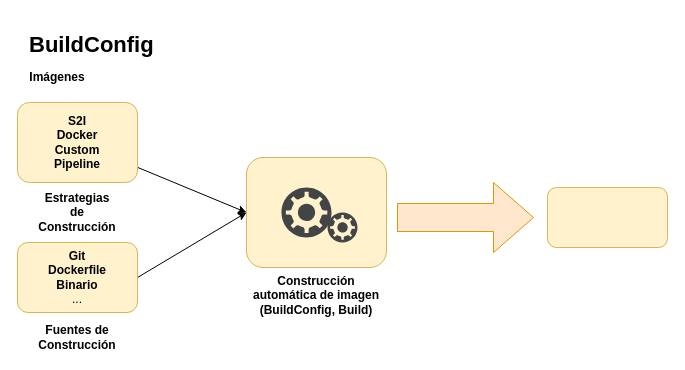
The diagram is 685 pixels wide and 370 high, and some of its shapes have lost their labels. Each missing label, with the centre of its shape:
"Creación" goes at [465,217].
"Imagen" goes at [607,217].
